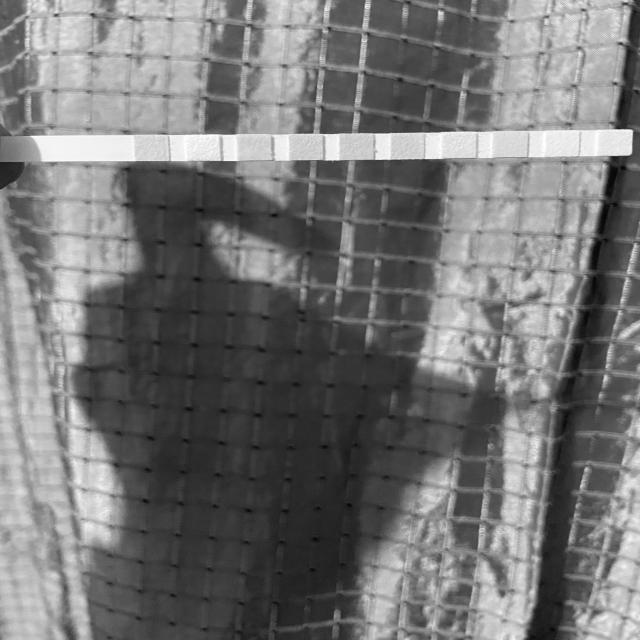Bilirubin: (188, 136, 220, 160)
Blood: (339, 135, 372, 159)
Glucose: (136, 136, 168, 160)
Ketone: (238, 136, 270, 160)
Leukocytes: (598, 131, 630, 155)
Nitrite: (547, 132, 579, 156)
Protein: (443, 134, 475, 158)
SpGravity: (290, 136, 322, 160)
Urobilinogen: (493, 132, 526, 157)
background: (0, 0, 640, 640)
pH: (391, 134, 423, 158)
strip: (0, 129, 633, 162)
